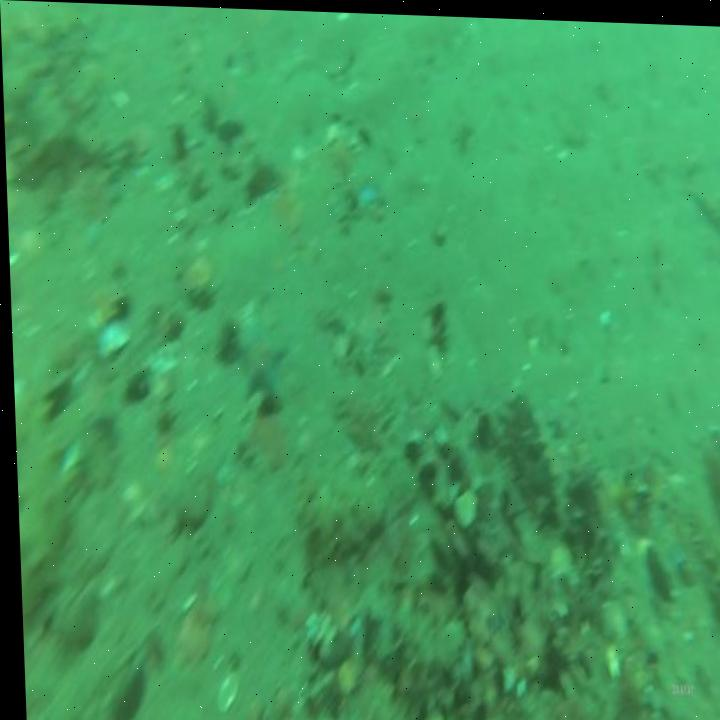holothurian: (288, 456, 385, 564)
starfish: (229, 318, 288, 405)
